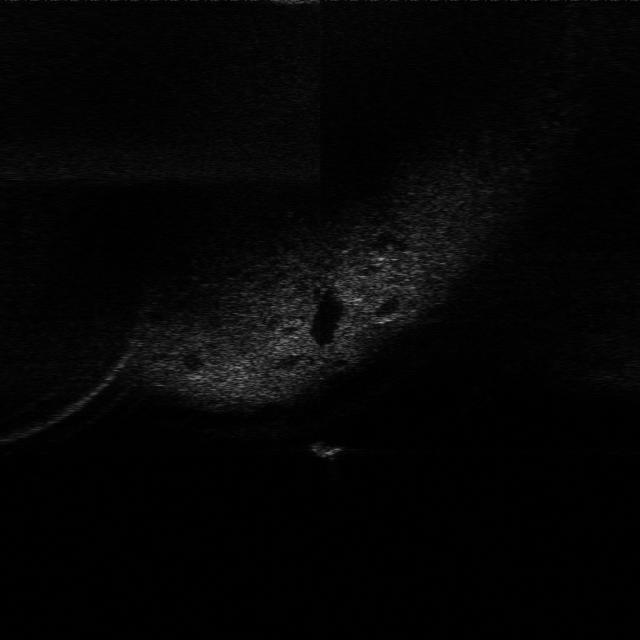cube: (306, 430, 356, 463)
